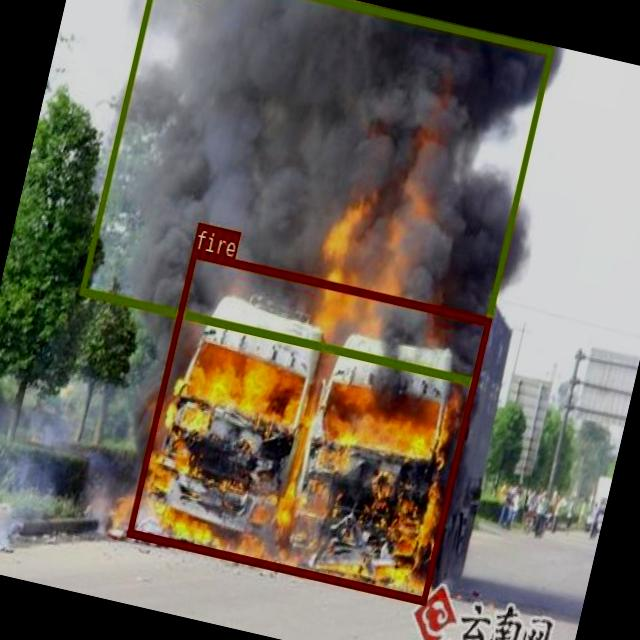fire: (126, 248, 490, 603)
smoke: (78, 0, 552, 383)
